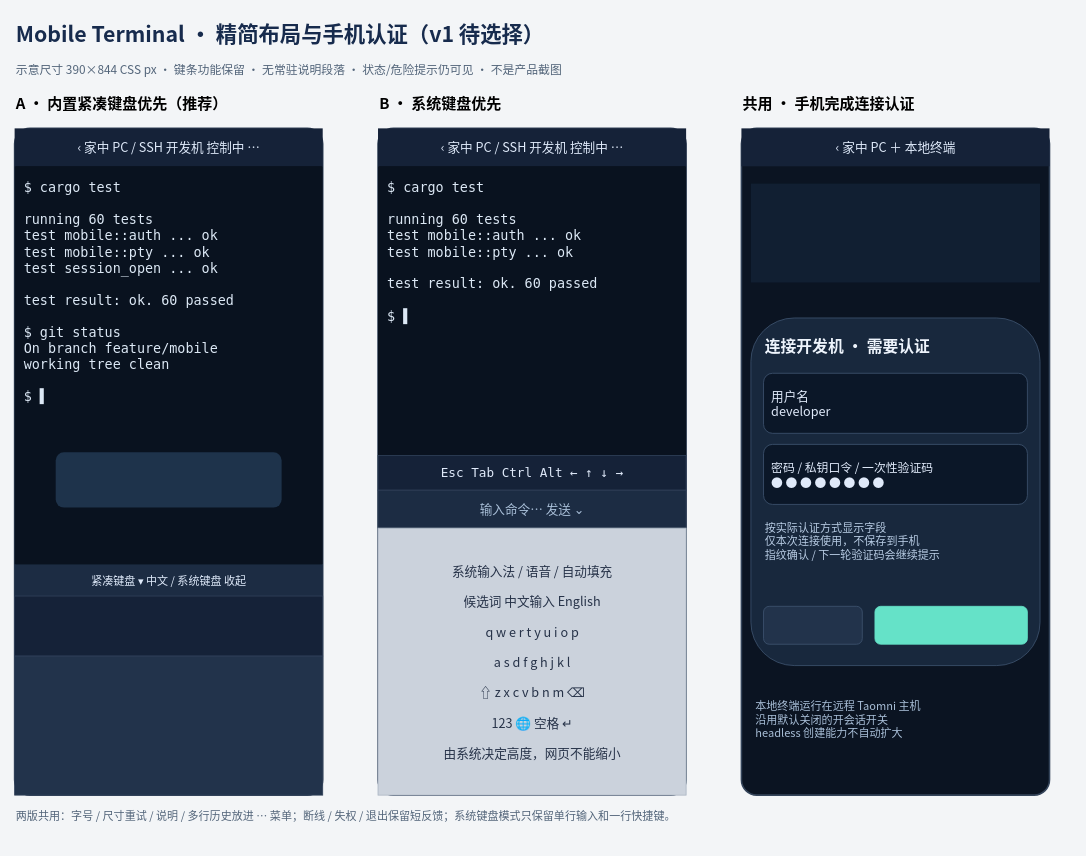
Some shapes in this 1086 by 856 pixel diagram are drawn without their labels. The centre of each missing label's shape, as x and y in pixels:
Esc Tab Ctrl Alt ← ↑ ↓ → Home End PgUp PgDn Ctrl-C …: (x=168, y=625)
q w e r t y u i o p a s d f g h j k l ⇧ z x c v b n m ⌫ 123 / - [ 空格 ] ↵: (x=168, y=725)
取消连接: (x=812, y=625)
已保存会话 开发机 · SSH 打开 测试机 · SSH 打开: (x=895, y=232)
更多空间给输出 点输出不会自动弹系统键盘: (x=168, y=479)
继续连接: (x=950, y=625)
